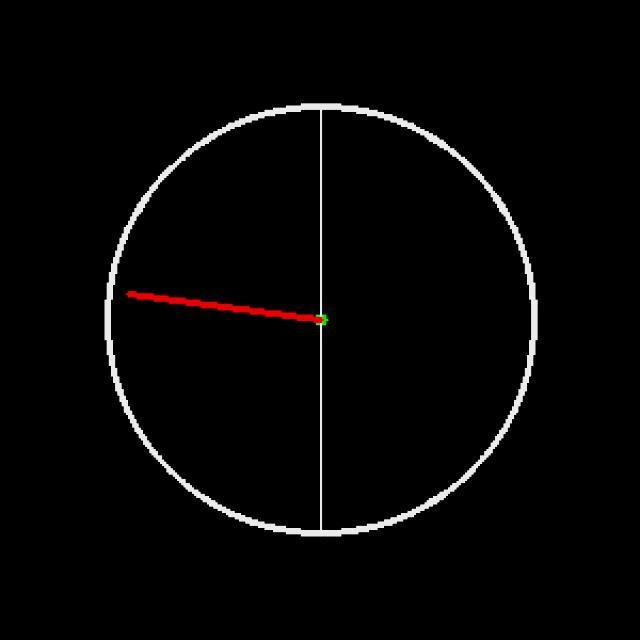Needle_Tip: (114, 273, 161, 314)
Needle_base: (298, 283, 360, 356)
